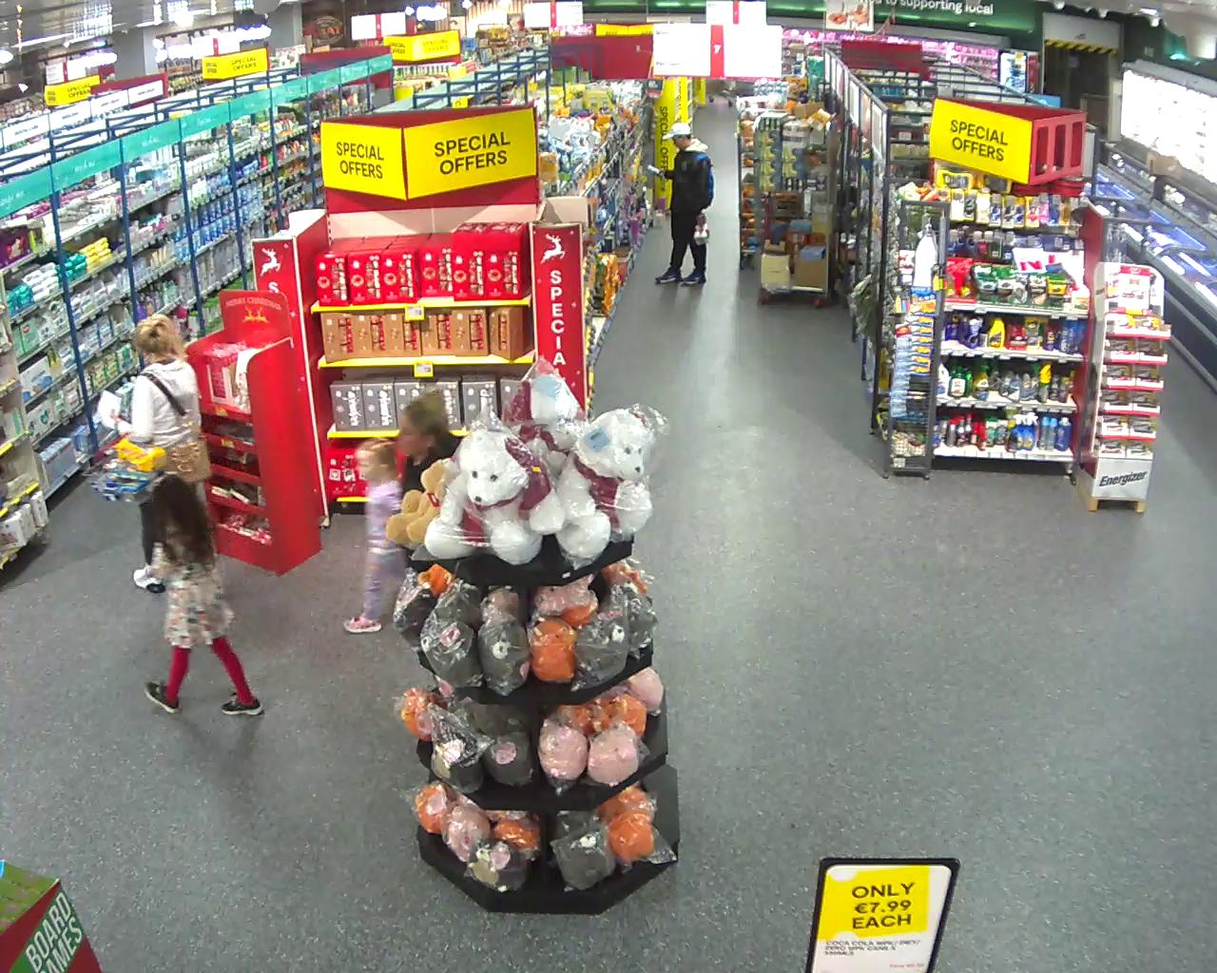backpack-or-handbag: (160, 439, 212, 482), (706, 172, 714, 203)
carrying-item: (693, 224, 710, 246)
filled-basket: (81, 437, 166, 504)
person: (110, 314, 201, 563), (654, 122, 712, 286)
person-with-backpack-handbag-and-carrying-item-s-: (654, 120, 715, 284)
person-with-basket-trolly-and-backpack-handbag: (81, 315, 213, 564)
